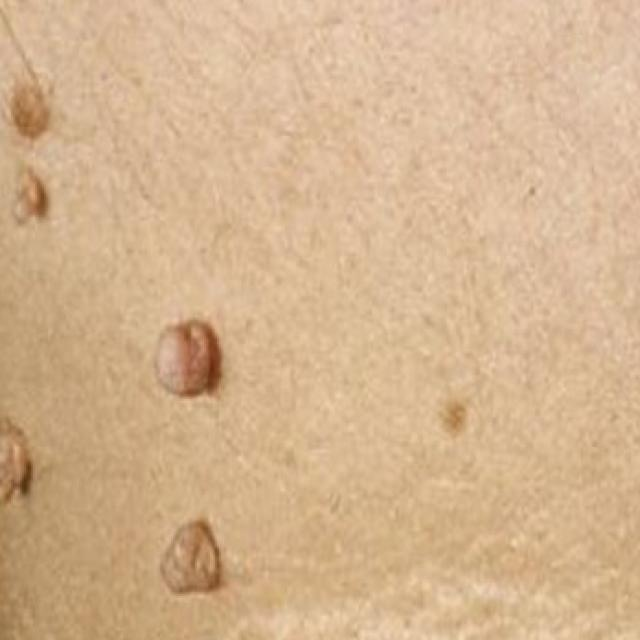wart: (149, 318, 221, 397), (158, 518, 226, 594), (0, 415, 29, 513), (9, 166, 54, 226)
